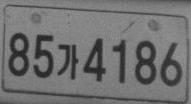1: (109, 39, 133, 84)
4: (82, 37, 106, 82)
5: (33, 34, 54, 78)
6: (159, 41, 182, 87)
8: (133, 39, 157, 85), (7, 31, 30, 77)
가: (57, 44, 79, 80)
